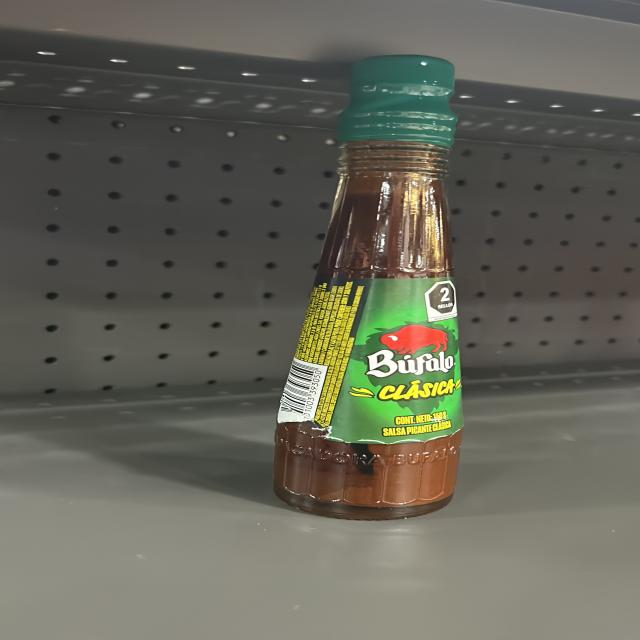salsaBufalo: (292, 49, 448, 522)
